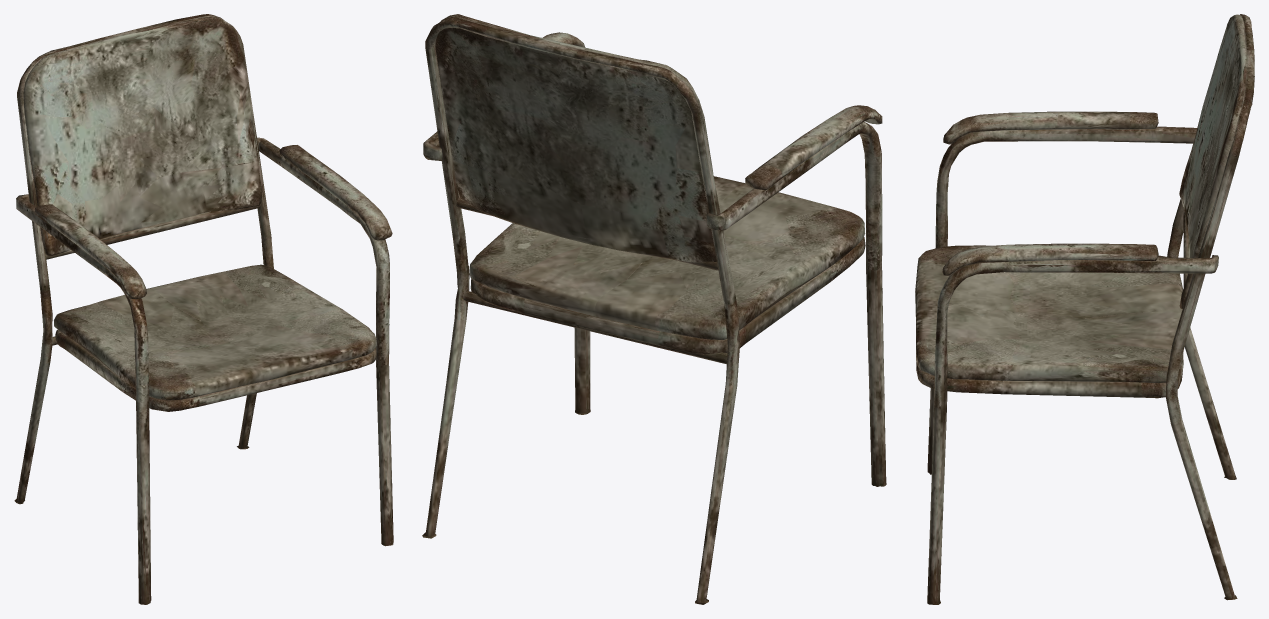
Rendered from metal_chair.glb.
3 views of the same model, side by side, from view 1: azimuth 30°, elevation 25°; view 2: azimuth 150°, elevation 25°; view 3: azimuth 270°, elevation 25° (orthographic). The views are drawn at different scales.
Bounding box in the file's own units: 0.6402 × 1 × 0.6444.
Materials: 1 (1 with a texture image).
